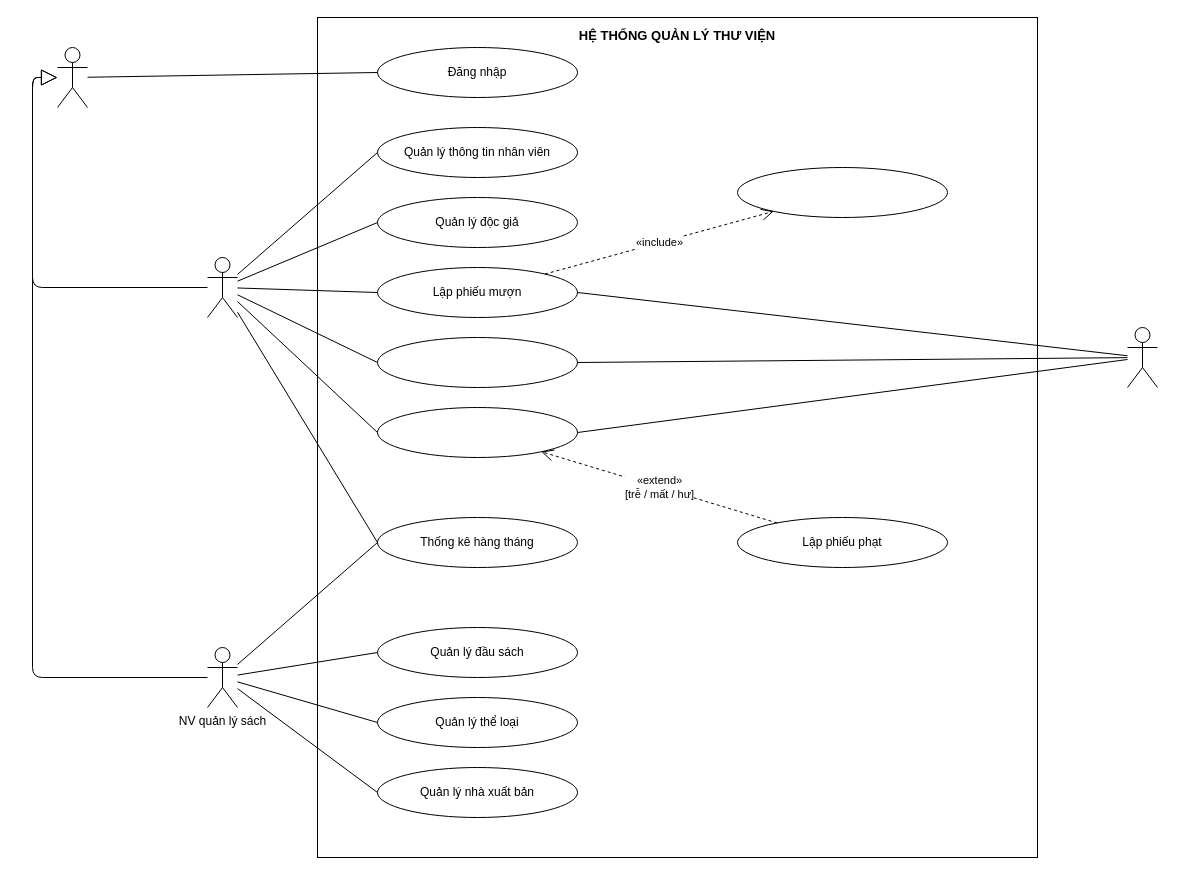
Some shapes in this 1180 by 875 pixel diagram are drawn without their labels. Here are the shapes that lost their labels. From the top down, the box of each, then its label:
(56, 46, 88, 108): Nhân viên
(736, 166, 948, 218): Kiểm tra điều kiện mượn
(206, 256, 238, 318): Thủ thư
(376, 336, 578, 388): Cấp / gia hạn thẻ
(1126, 326, 1158, 388): Độc giả
(376, 406, 578, 458): Nhận trả sách
